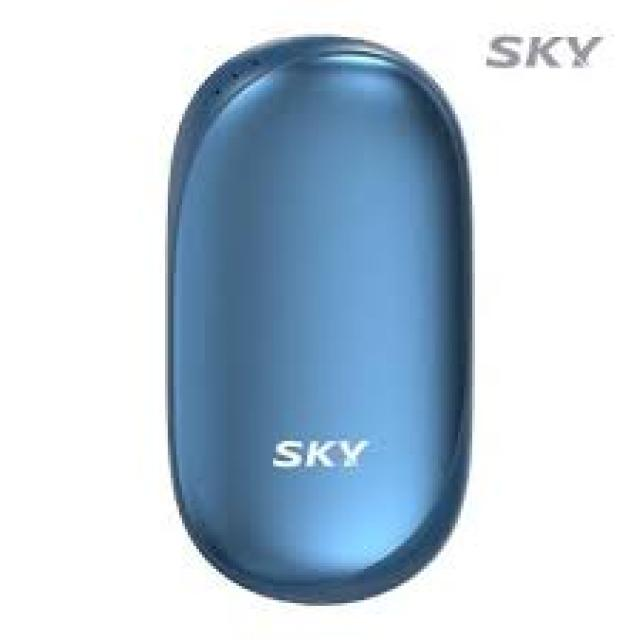power_bank: (168, 33, 476, 602)
